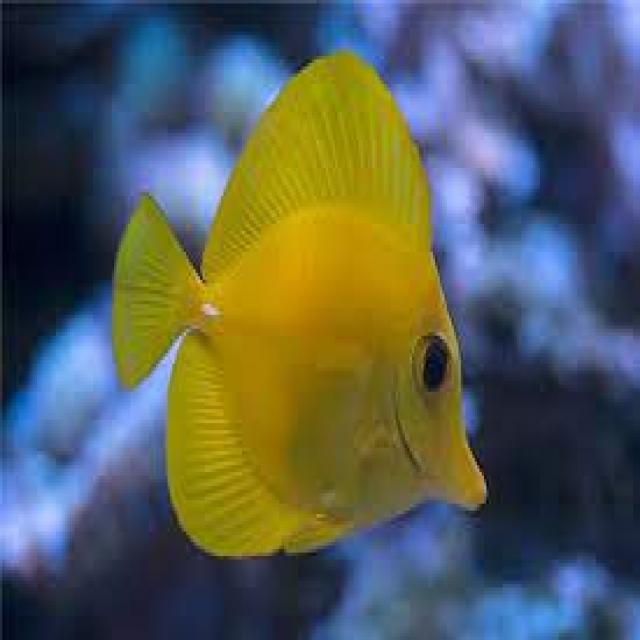YellowTang: (87, 52, 497, 555)
